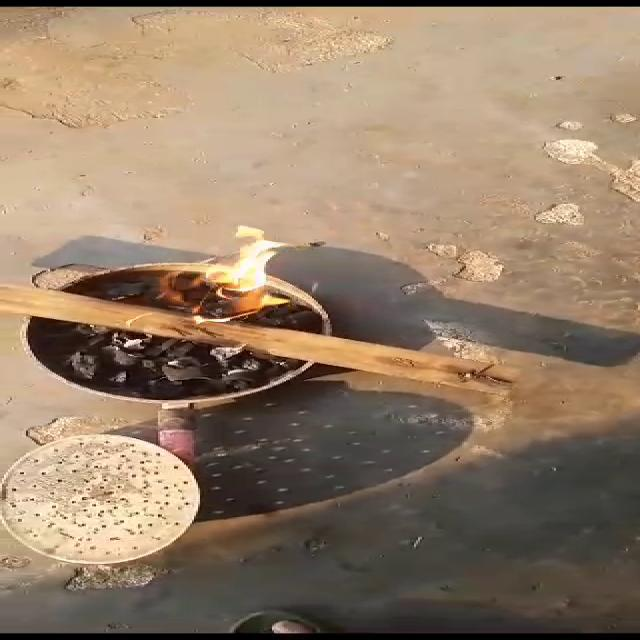Fire: (156, 217, 314, 330)
